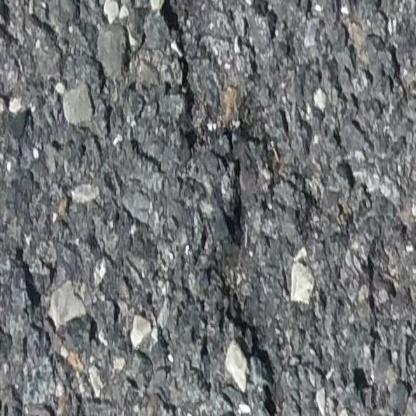Cracks: (154, 0, 304, 416)
